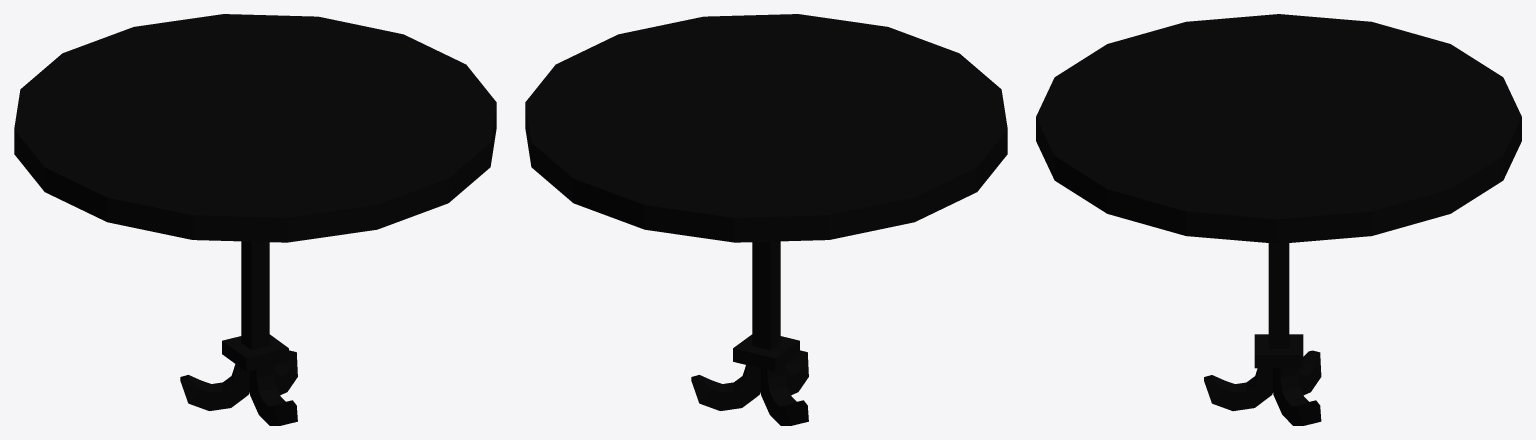
File: mdl_poland_table.gltf
The picture shows the model from 3 angles, left to right: view 1: azimuth 30°, elevation 25°; view 2: azimuth 150°, elevation 25°; view 3: azimuth 270°, elevation 25°; orthographic projection.
Visible parts, largest first — view 1: Cylinder.014, Cube.052, Cube.053; view 2: Cylinder.014, Cube.052, Cube.053; view 3: Cylinder.014, Cube.053, Cube.052.
Boxes of the visible parts, box(x1,y1,x2,y2) form: Cylinder.014: box(14, 14, 496, 242); Cube.052: box(222, 241, 288, 371); Cube.053: box(180, 350, 297, 425); Cylinder.014: box(525, 14, 1007, 242); Cube.052: box(733, 241, 799, 371); Cube.053: box(691, 350, 808, 425); Cylinder.014: box(1036, 14, 1521, 243); Cube.053: box(1204, 350, 1321, 425); Cube.052: box(1254, 243, 1303, 368).
Bounding box in the file's own units: 1.1 × 0.7257 × 1.1.
Materials: 2 (2 with a texture image).
